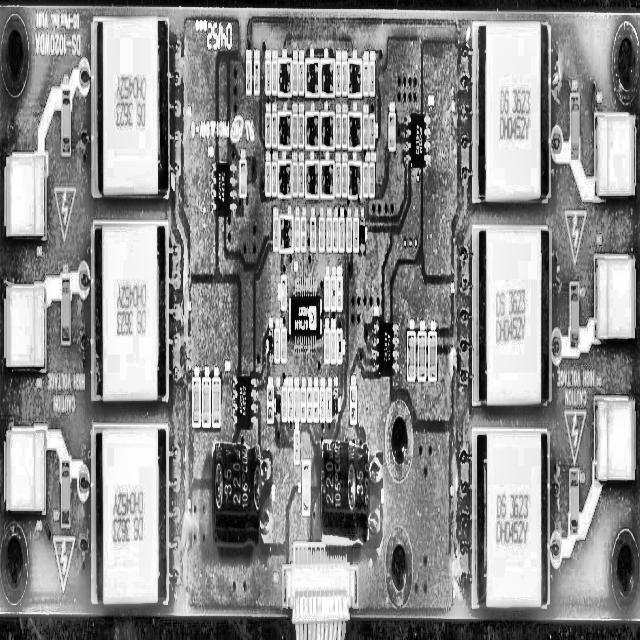PCB: (0, 2, 640, 629)
